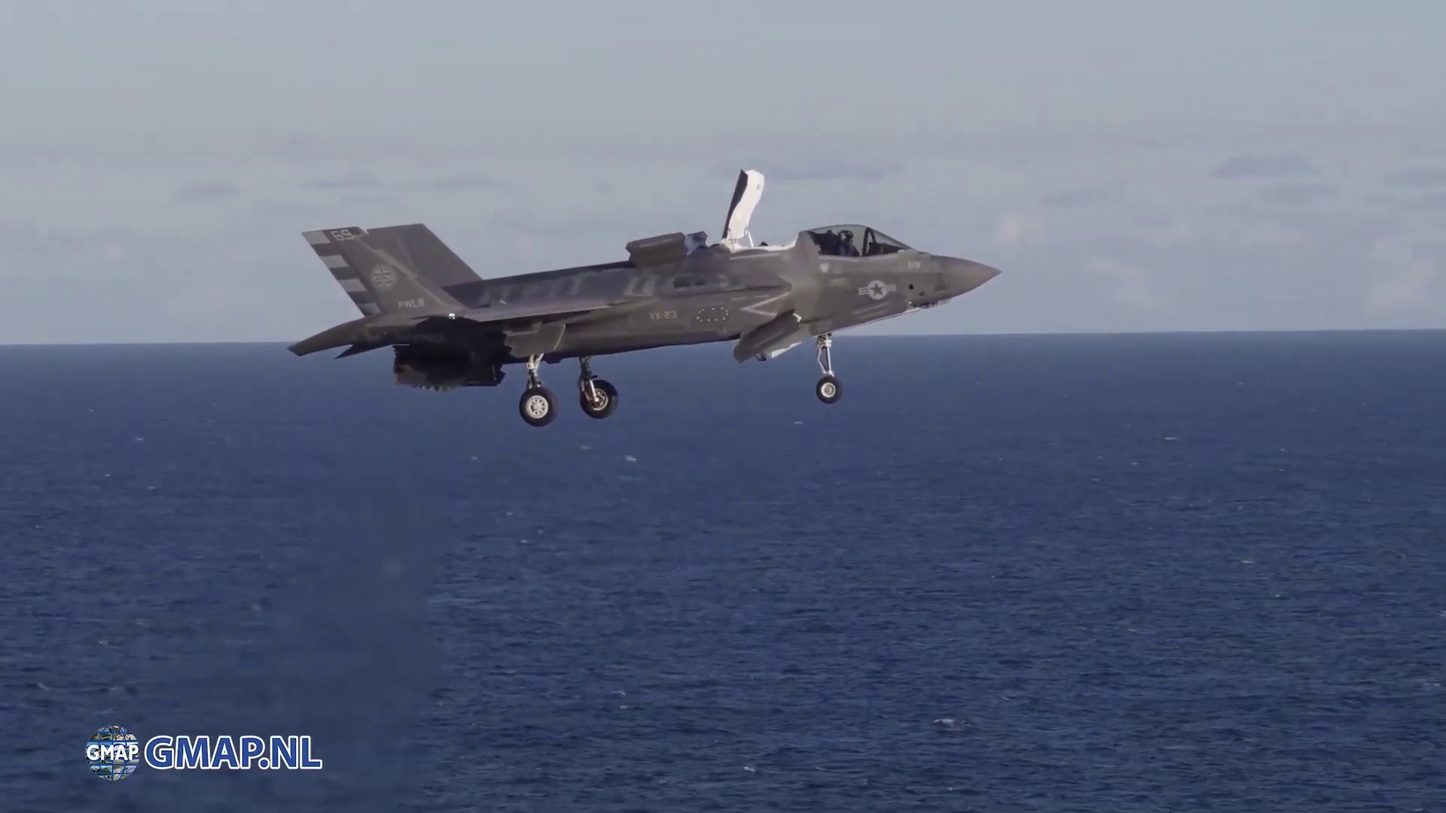F35: (280, 164, 1009, 431)
